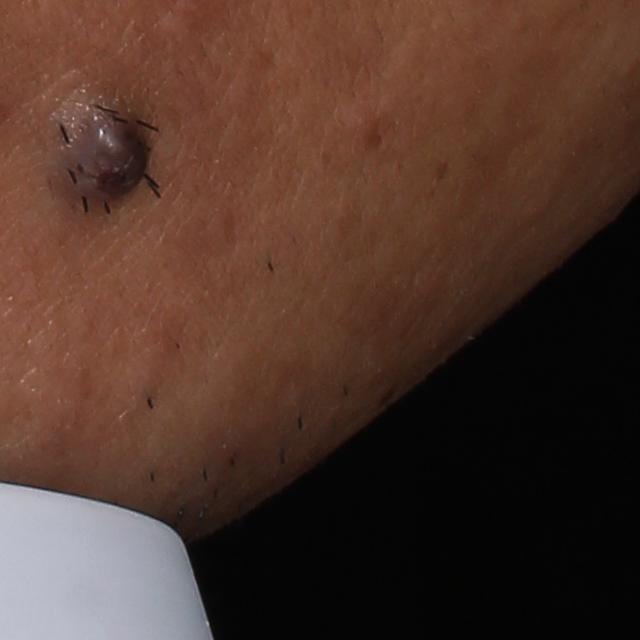nevus: (37, 80, 156, 232)
